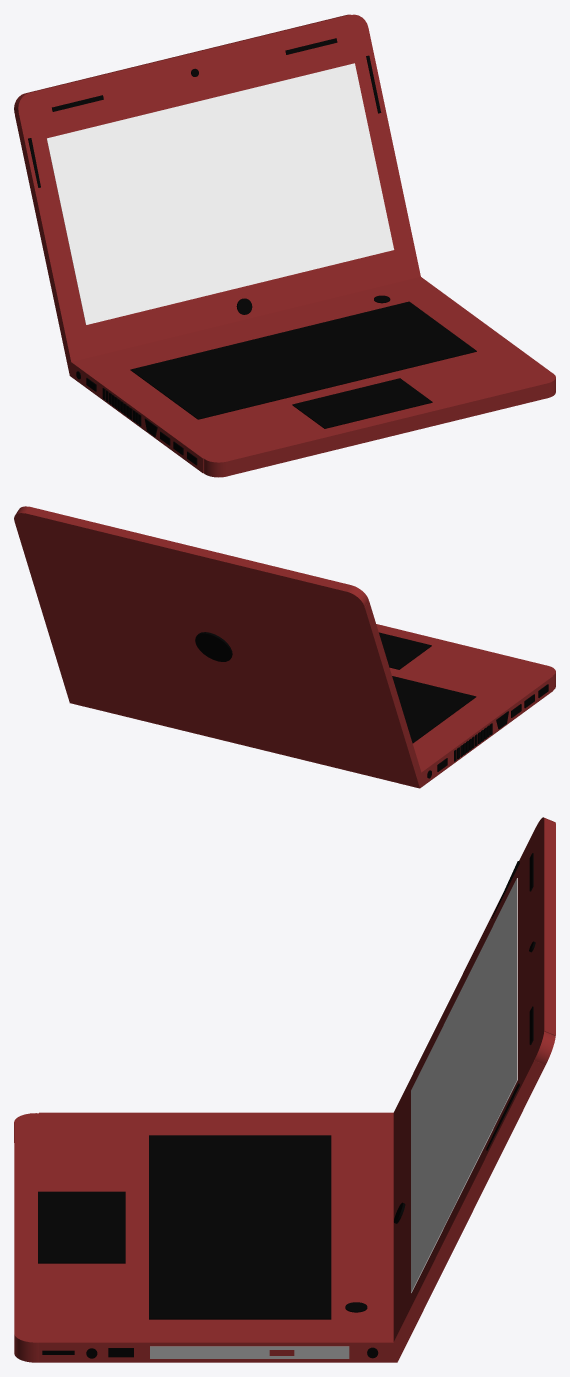
File: laptop.fbx
3 views of the same model, one above another, from view 1: azimuth 30°, elevation 25°; view 2: azimuth 150°, elevation 25°; view 3: azimuth 270°, elevation 25° (orthographic). The views are drawn at different scales.
Parts seen in each view (by area): view 1: Box7, Box2, Box4, Box1, Box5, Box11, Box14, Box13, Box6, Box8, Box3, Box9 (+4 smaller); view 2: Box4, Box11, Box6, Box1, Box14, Box9, Box13, Box2, Box5, Box3, Cylinder3, Cylinder9 (+3 smaller); view 3: Box2, Box1, Box7, Box10, Box8, Box5, Box3, Box4, Box13, Box11, Box9, Box31 (+5 smaller).
Boxes of the visible parts, x1,y1,x2,y2 form: Box7: (46,63,394,324); Box2: (130,301,476,419); Box4: (35,39,403,343); Box1: (105,291,524,450); Box5: (214,373,547,475); Box11: (27,14,354,114); Box14: (15,109,92,374); Box13: (348,29,420,281); Box6: (87,269,399,357); Box8: (93,282,416,367); Box3: (292,378,432,428); Box9: (69,357,210,473); Box4: (30,530,392,763); Box11: (25,506,349,607); Box6: (78,687,402,782); Box1: (389,649,531,759); Box14: (344,601,422,787); Box9: (399,675,553,788); Box13: (15,522,90,707); Box2: (392,676,476,743); Box5: (376,624,543,672); Box3: (379,632,431,669); Cylinder3: (195,632,232,661); Cylinder9: (335,585,368,614); Box2: (149,1135,331,1319); Box1: (49,1122,363,1328); Box7: (411,878,517,1292); Box10: (39,1328,397,1362); Box8: (361,1122,393,1328); Box5: (14,1122,50,1331); Box3: (38,1191,125,1263); Box4: (401,856,530,1317); Box13: (393,1059,545,1361); Box11: (529,820,555,1059); Box9: (39,1112,393,1122); Box31: (150,1346,349,1358).
Bounding box in the file's own units: 4.93 × 3.22 × 4.89.
